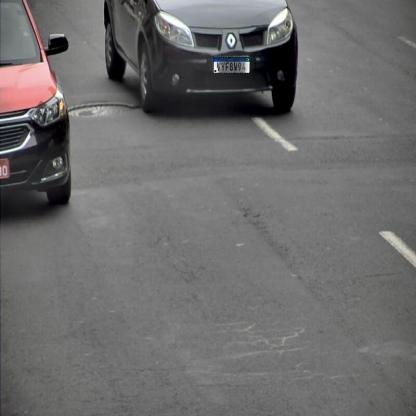PlacaM: (213, 57, 250, 73)
